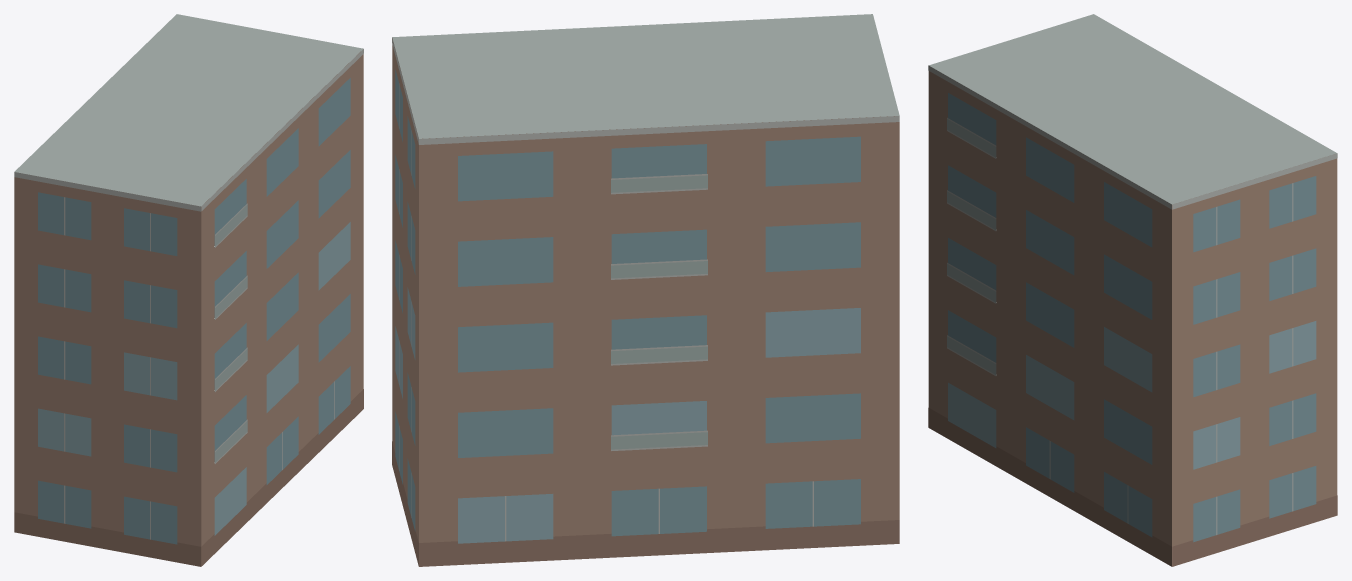
File: survey-upis-32588367.glb
3 views of the same model, side by side, from view 1: azimuth 30°, elevation 25°; view 2: azimuth 150°, elevation 25°; view 3: azimuth 270°, elevation 25° (orthographic). The views are drawn at different scales.
Parts seen in each view (by area): view 1: survey-upis-32588367.tmp; view 2: survey-upis-32588367.tmp; view 3: survey-upis-32588367.tmp.
Boxes of the visible parts, left/top/right/bottom form: survey-upis-32588367.tmp: left=14, top=14, right=363, bottom=566; survey-upis-32588367.tmp: left=392, top=14, right=899, bottom=566; survey-upis-32588367.tmp: left=928, top=14, right=1337, bottom=566.
Bounding box in the file's own units: 19.18 × 17 × 17.39.
